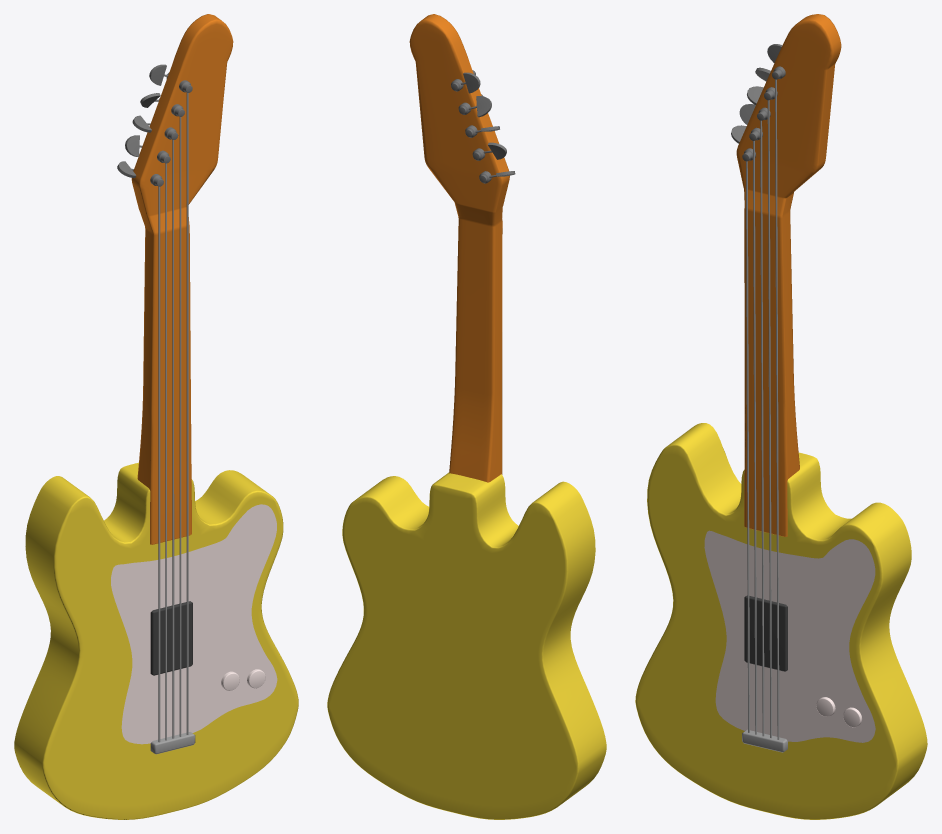
File: Isl_3_Guitar_1.fbx
3 renders of one model, left to right at view 1: azimuth 30°, elevation 25°; view 2: azimuth 150°, elevation 25°; view 3: azimuth 330°, elevation 25°, orthographic. The views are drawn at different scales.
Parts seen in each view (by area): view 1: Isl_3_Guitar_1; view 2: Isl_3_Guitar_1; view 3: Isl_3_Guitar_1.
Boxes of the visible parts, x1=… form: Isl_3_Guitar_1: x1=14, y1=14, x2=298, y2=819; Isl_3_Guitar_1: x1=327, y1=14, x2=606, y2=819; Isl_3_Guitar_1: x1=635, y1=14, x2=927, y2=819.
Bounding box in the file's own units: 81.43 × 237 × 18.73.
